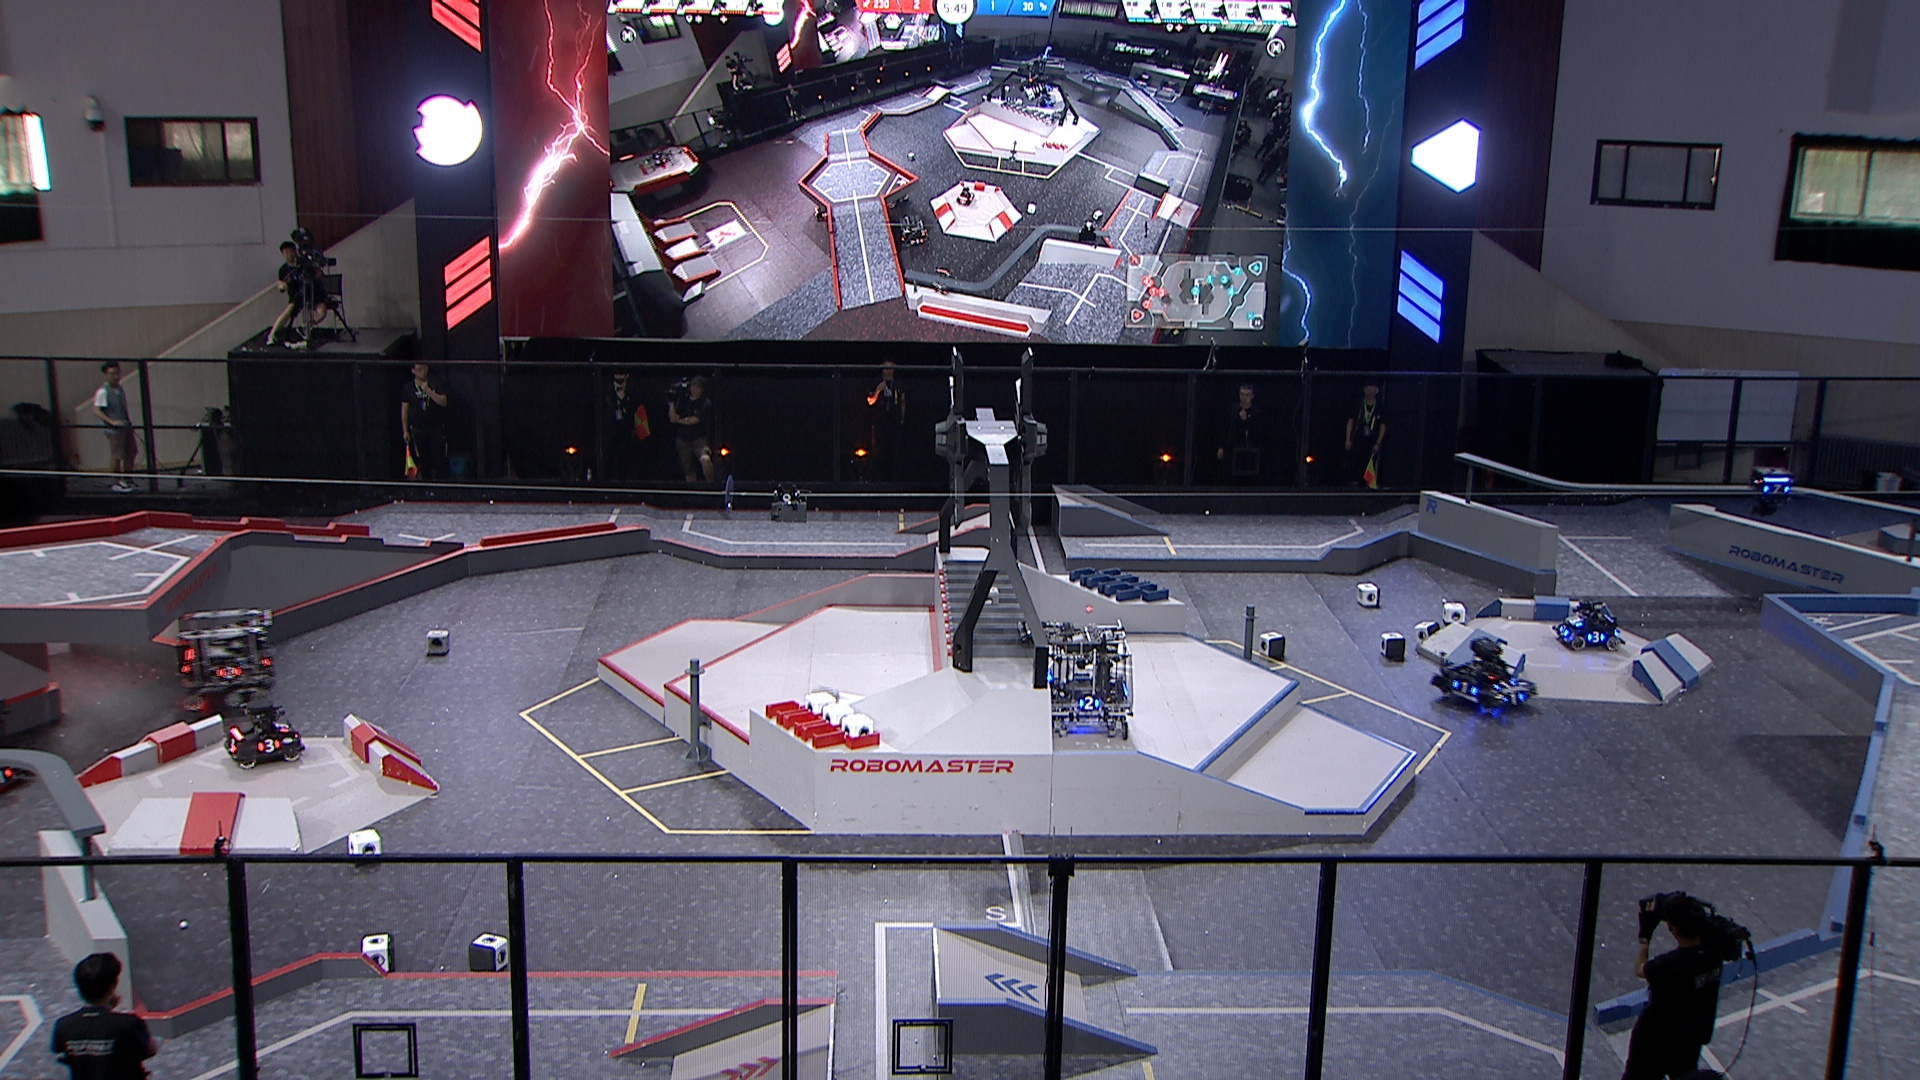armor: (214, 665, 245, 683), (1451, 679, 1480, 698), (257, 736, 284, 754), (1077, 694, 1102, 712), (1490, 678, 1518, 692), (1501, 692, 1528, 707), (1760, 483, 1792, 495), (1585, 632, 1607, 645), (1569, 616, 1585, 632), (1556, 622, 1572, 638), (225, 738, 240, 754), (276, 721, 294, 733)
car: (1040, 618, 1139, 740), (174, 605, 280, 708), (1425, 638, 1539, 719), (220, 698, 309, 770), (1552, 597, 1626, 655)
ignore: (898, 214, 931, 244), (931, 266, 955, 297), (812, 204, 832, 223), (956, 187, 975, 206), (1038, 92, 1055, 109), (1040, 45, 1058, 59)
watcher: (1749, 465, 1793, 516)
